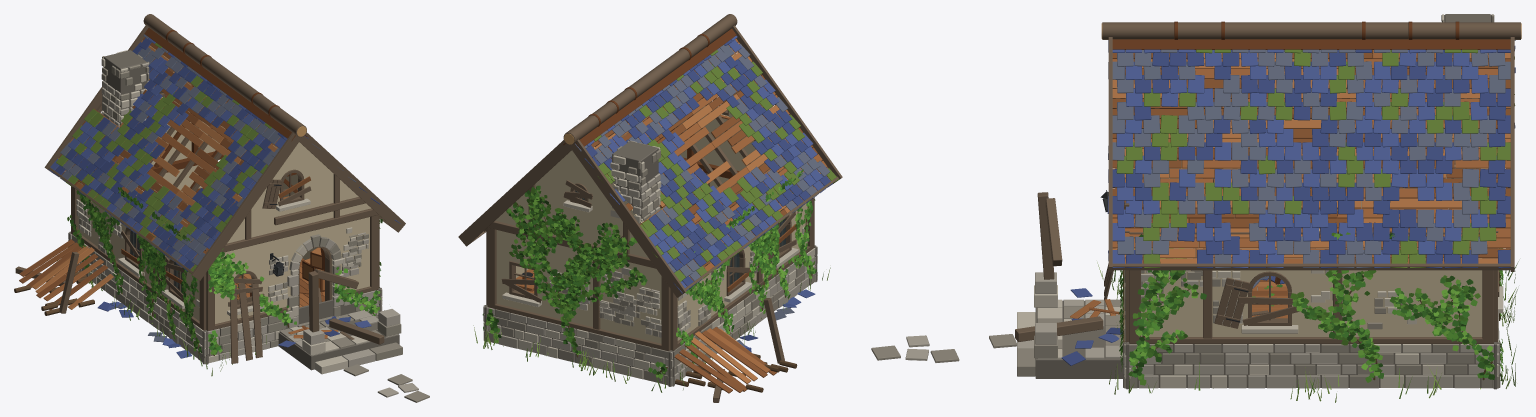
The model's file is House_Ruined.glb.
3 views of the same model, side by side, from view 1: azimuth 30°, elevation 25°; view 2: azimuth 150°, elevation 25°; view 3: azimuth 270°, elevation 25° (orthographic). The views are drawn at different scales.
Visible parts, largest first — view 1: HR_Roof_Tiles, HR_Stone, HR_Walls, HR_Ridge, HR_Ivy, HR_Roof_Deck, HR_Timber, HR_Yard, HR_Shed, HR_Windows, HR_Chimney, HR_Porch (+3 smaller); view 2: HR_Roof_Tiles, HR_Ivy, HR_Stone, HR_Walls, HR_Ridge, HR_Roof_Deck, HR_Timber, HR_Shed, HR_Chimney, HR_Windows, HR_Yard, HR_Firewood; view 3: HR_Roof_Tiles, HR_Stone, HR_Ridge, HR_Roof_Deck, HR_Ivy, HR_Walls, HR_Timber, HR_Yard, HR_Porch, HR_Windows, HR_Floor.
Boxes of the visible parts, <box> form: HR_Roof_Tiles: <box>48,34,400,273</box>; HR_Stone: <box>68,183,402,374</box>; HR_Walls: <box>77,45,370,323</box>; HR_Ridge: <box>44,14,405,280</box>; HR_Ivy: <box>67,166,382,355</box>; HR_Roof_Deck: <box>55,37,380,269</box>; HR_Timber: <box>71,156,379,330</box>; HR_Yard: <box>57,260,429,402</box>; HR_Shed: <box>15,239,113,313</box>; HR_Windows: <box>121,91,331,308</box>; HR_Chimney: <box>101,50,149,191</box>; HR_Porch: <box>274,197,384,344</box>; HR_Roof_Tiles: <box>574,35,838,293</box>; HR_Ivy: <box>482,169,816,378</box>; HR_Stone: <box>483,106,817,386</box>; HR_Walls: <box>495,54,807,343</box>; HR_Ridge: <box>458,14,842,297</box>; HR_Roof_Deck: <box>484,38,830,285</box>; HR_Timber: <box>486,159,815,351</box>; HR_Shed: <box>674,298,784,402</box>; HR_Chimney: <box>610,140,661,223</box>; HR_Windows: <box>501,97,796,303</box>; HR_Yard: <box>473,267,830,392</box>; HR_Firewood: <box>675,353,797,392</box>; HR_Roof_Tiles: <box>1107,40,1515,268</box>; HR_Stone: <box>1017,248,1503,389</box>; HR_Ridge: <box>1101,21,1521,271</box>; HR_Roof_Deck: <box>1112,50,1510,263</box>; HR_Ivy: <box>1119,231,1503,385</box>; HR_Walls: <box>1133,108,1488,336</box>; HR_Timber: <box>1125,98,1498,343</box>; HR_Yard: <box>871,248,1518,402</box>; HR_Porch: <box>1015,178,1129,341</box>; HR_Windows: <box>1124,98,1499,328</box>; HR_Floor: <box>1188,213,1337,316</box>.
Bounding box in the file's own units: 8.07 × 6.67 × 12.49.
